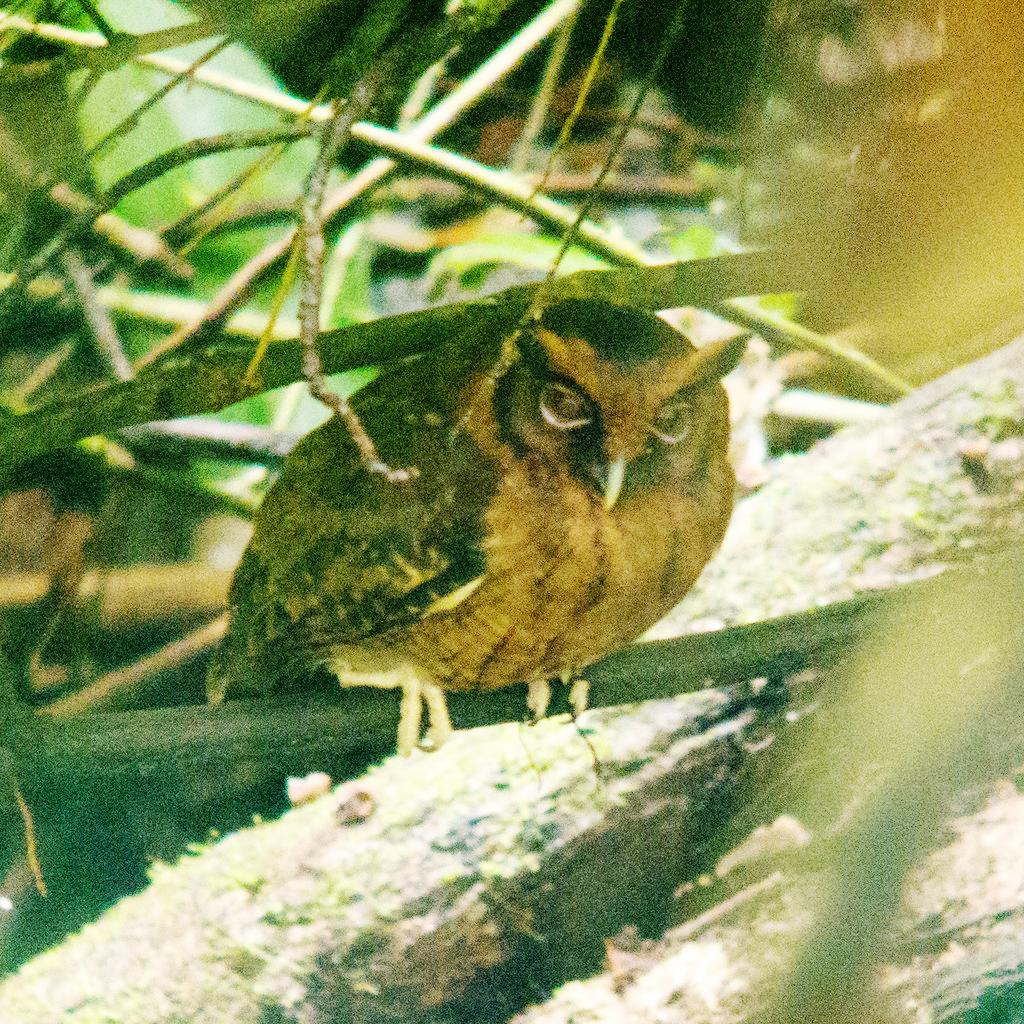Owl: (200, 276, 772, 780)
